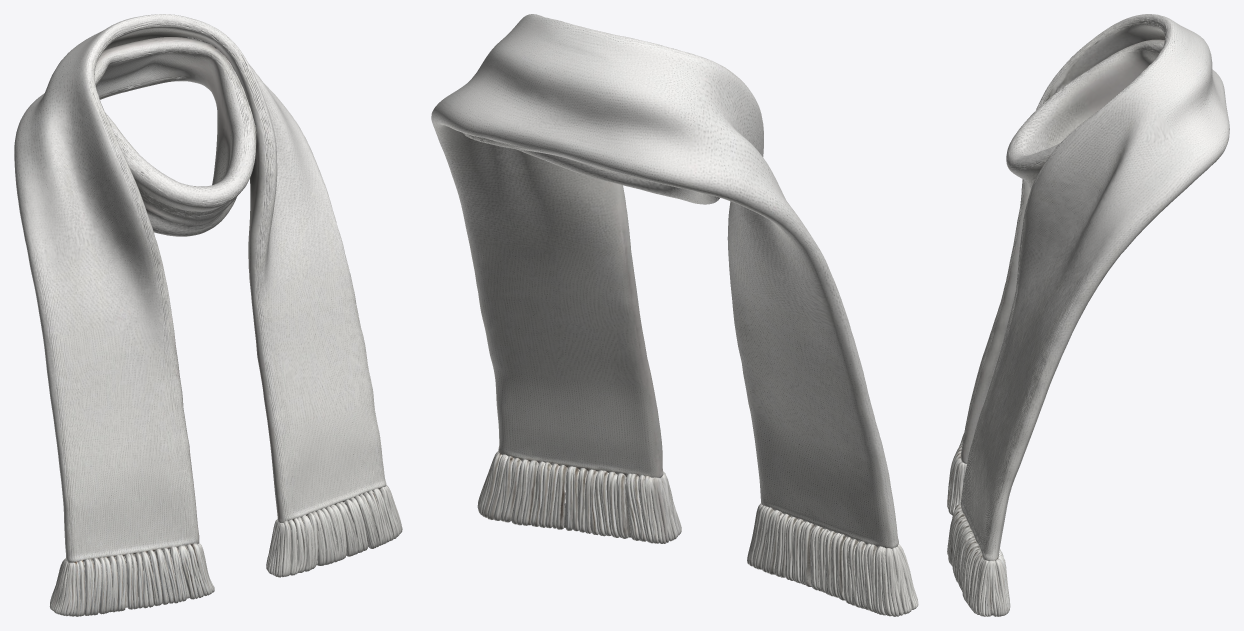
The model's file is halsduk.glb.
3 views of the same model, side by side, from view 1: azimuth 30°, elevation 25°; view 2: azimuth 150°, elevation 25°; view 3: azimuth 270°, elevation 25° (orthographic). The views are drawn at different scales.
Size of the model in its own units: 0.7232 by 0.9805 by 0.5002.
Materials: 1 (1 with a texture image).
